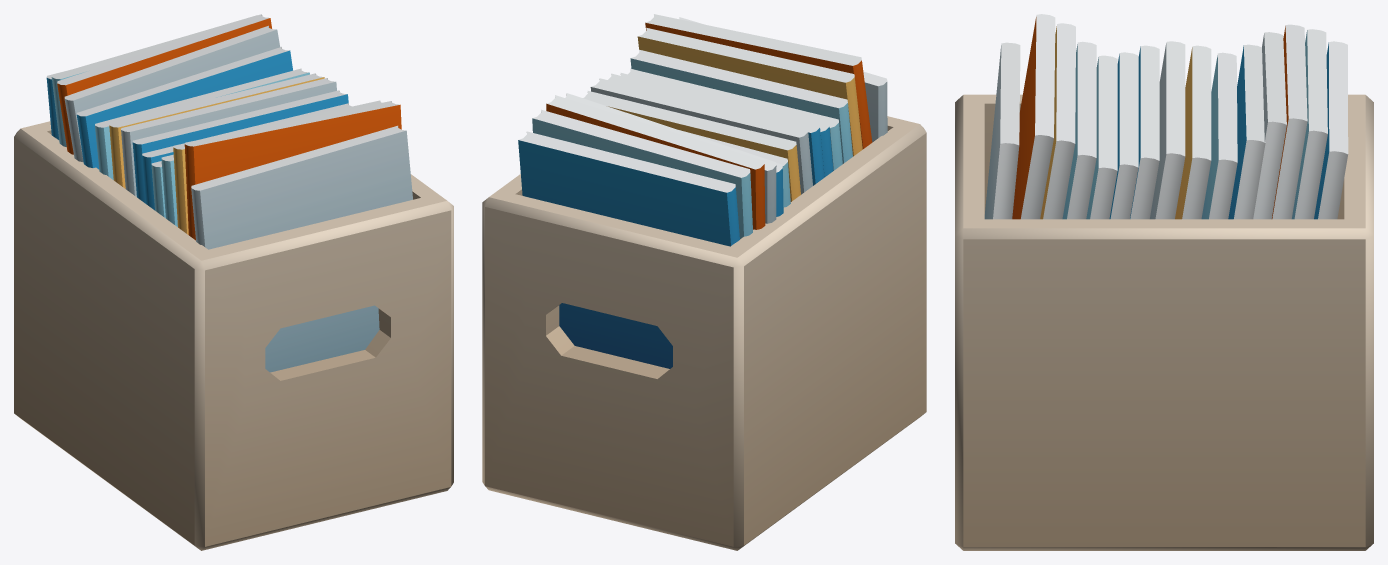
The model's file is comicbox_filled.fbx.
The picture shows the model from 3 angles, left to right: view 1: azimuth 30°, elevation 25°; view 2: azimuth 150°, elevation 25°; view 3: azimuth 270°, elevation 25°; orthographic projection. The views are drawn at different scales.
Visible parts, largest first — view 1: comicbox_filled; view 2: comicbox_filled; view 3: comicbox_filled.
Part boxes in pixels (x1,y1,x2,y2): comicbox_filled: (14,14,453,550); comicbox_filled: (482,14,926,550); comicbox_filled: (955,14,1373,550).
Size of the model in its own units: 63.55 by 87.7 by 80.
